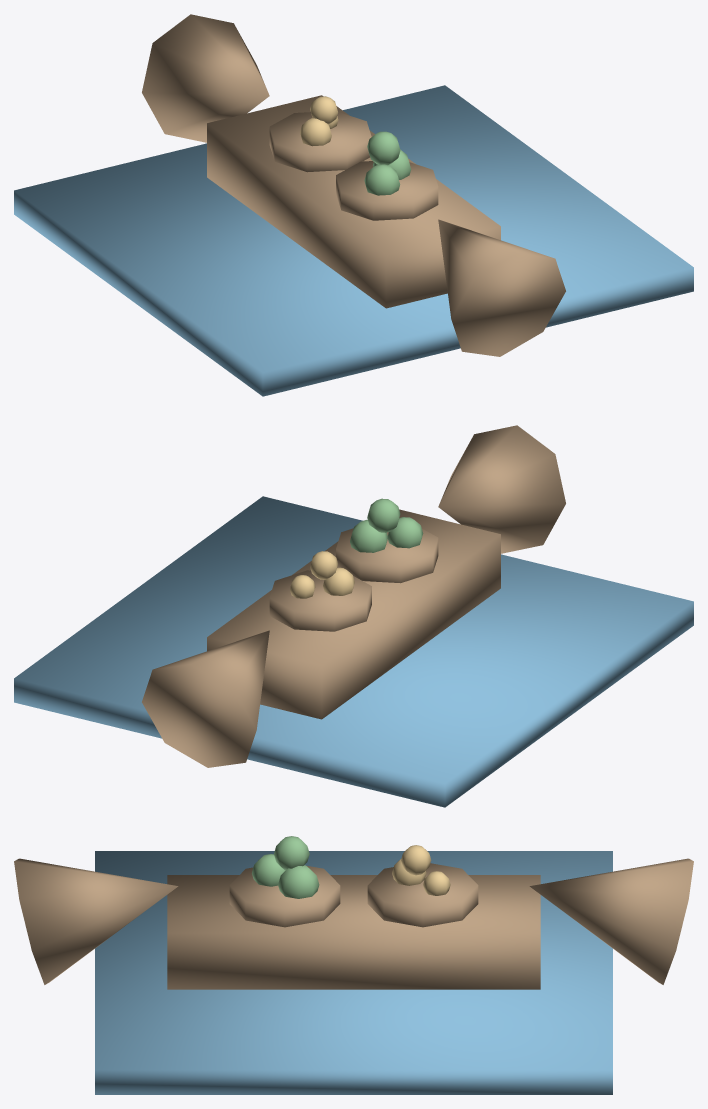
Rendered from floating_market.glb.
3 views of the same model, one above another, from view 1: azimuth 30°, elevation 25°; view 2: azimuth 150°, elevation 25°; view 3: azimuth 270°, elevation 25° (orthographic). The views are drawn at different scales.
Parts seen in each view (by area): view 1: water, boat_mid, boat_stern, boat_bow, basket1, basket2, coco2, coco3, mango1, mango3; view 2: water, boat_mid, boat_bow, boat_stern, basket1, basket2, coco1, coco3, coco2, mango1, mango3; view 3: water, boat_mid, boat_bow, boat_stern, basket1, basket2, coco1, coco3, coco2, mango3, mango2, mango1.
Part boxes in pixels (<box>): water: <box>14,85,693,396</box>; boat_mid: <box>207,95,500,308</box>; boat_stern: <box>438,219,565,356</box>; boat_bow: <box>142,14,269,142</box>; basket1: <box>269,112,371,172</box>; basket2: <box>336,161,438,220</box>; coco2: <box>364,164,400,195</box>; coco3: <box>367,131,400,165</box>; mango1: <box>300,118,331,146</box>; mango3: <box>310,96,337,124</box>; water: <box>14,496,693,807</box>; boat_mid: <box>207,509,500,719</box>; boat_bow: <box>142,630,269,767</box>; boat_stern: <box>438,425,565,553</box>; basket1: <box>269,570,371,631</box>; basket2: <box>336,528,438,583</box>; coco1: <box>350,520,387,552</box>; coco3: <box>367,498,400,532</box>; coco2: <box>388,517,423,548</box>; mango1: <box>323,567,354,595</box>; mango3: <box>310,551,337,579</box>; water: <box>95,851,612,1094</box>; boat_mid: <box>167,875,540,989</box>; boat_bow: <box>529,858,693,984</box>; boat_stern: <box>14,858,178,984</box>; basket1: <box>367,863,478,927</box>; basket2: <box>229,865,340,927</box>; coco1: <box>278,865,319,898</box>; coco3: <box>274,836,309,870</box>; coco2: <box>252,854,285,886</box>; mango3: <box>401,845,431,875</box>; mango2: <box>423,871,450,895</box>; mango1: <box>392,859,426,885</box>.
Bounding box in the file's own units: 0.75 × 0.236 × 0.9843.
